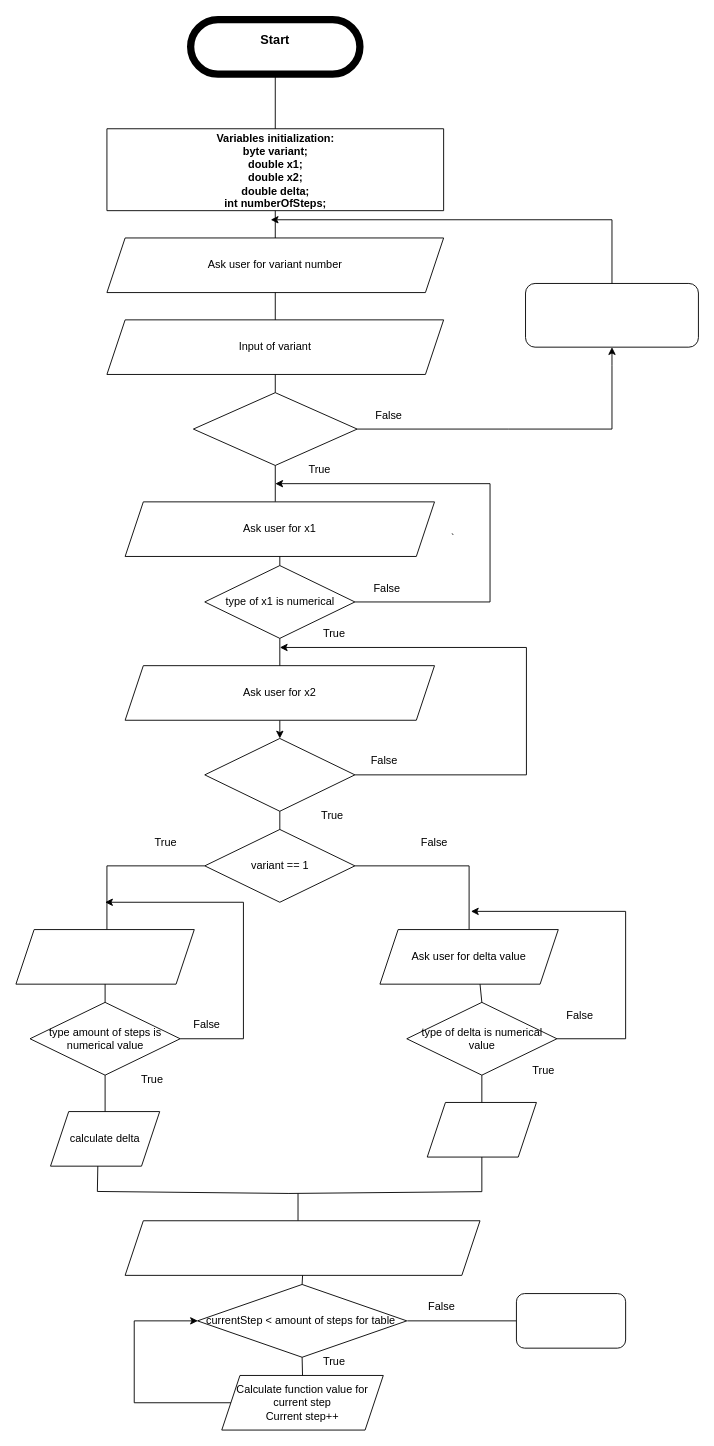
This 714x1446 diagram has some shape labels left out. Each missing label, with the box of its shape:
Ask user for amount of steps for table: (15, 929, 194, 984)
calculate number of steps: (426, 1102, 536, 1157)
End: (516, 1293, 626, 1348)
Error message: "Invalid variant input. Variant can be 1 or 2": (525, 283, 698, 347)
Initializing currentStep = 1;: (124, 1220, 480, 1275)
type of x2 is numerical: (204, 738, 355, 811)
variant == 1 || variant == 2: (192, 392, 357, 465)
